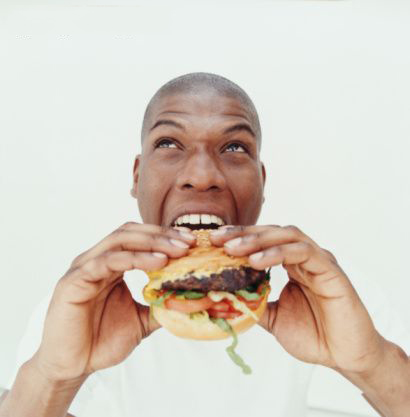eating: (17, 27, 409, 376)
